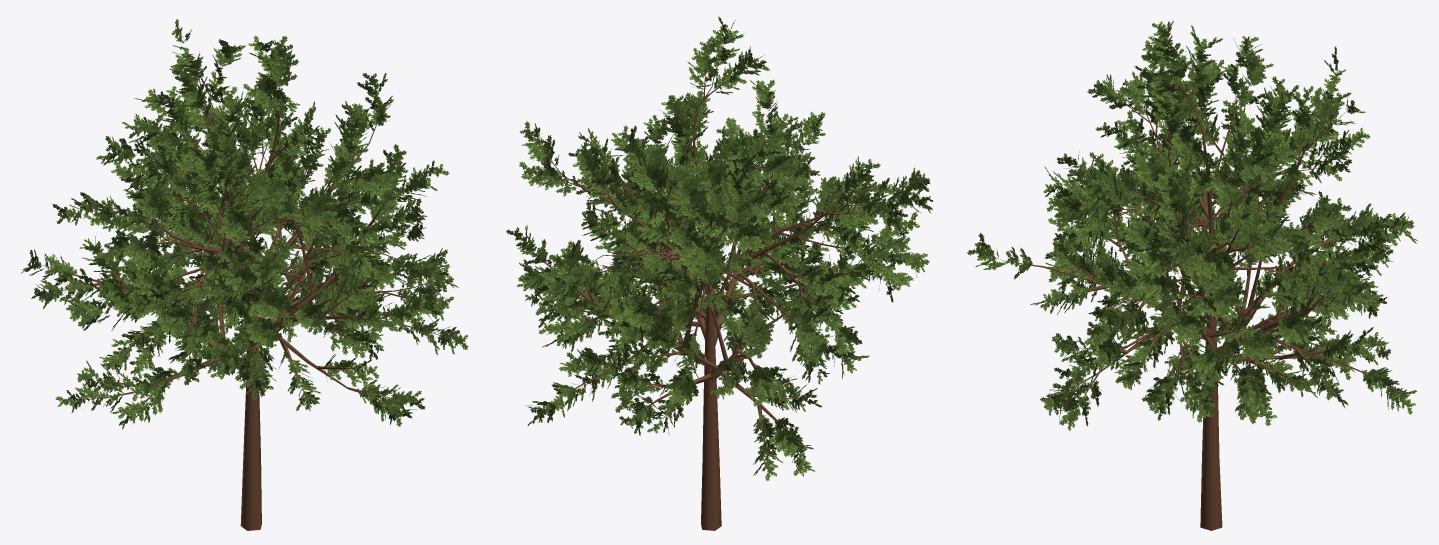
The model's file is tree2_lod1.glb.
3 renders of one model, left to right at view 1: azimuth 30°, elevation 25°; view 2: azimuth 150°, elevation 25°; view 3: azimuth 270°, elevation 25°, orthographic. The views are drawn at different scales.
Visible parts, largest first — view 1: leaves, trunk; view 2: leaves, trunk; view 3: leaves, trunk.
Part boxes in pixels (x1,y1,x2,y2): leaves: (20, 19, 468, 429); trunk: (42, 56, 446, 530); leaves: (506, 16, 933, 481); trunk: (533, 49, 916, 530); leaves: (967, 20, 1418, 430); trunk: (997, 53, 1389, 530).
Bounding box in the file's own units: 0.8208 × 1 × 0.8176.
Materials: 2 (1 with a texture image).
